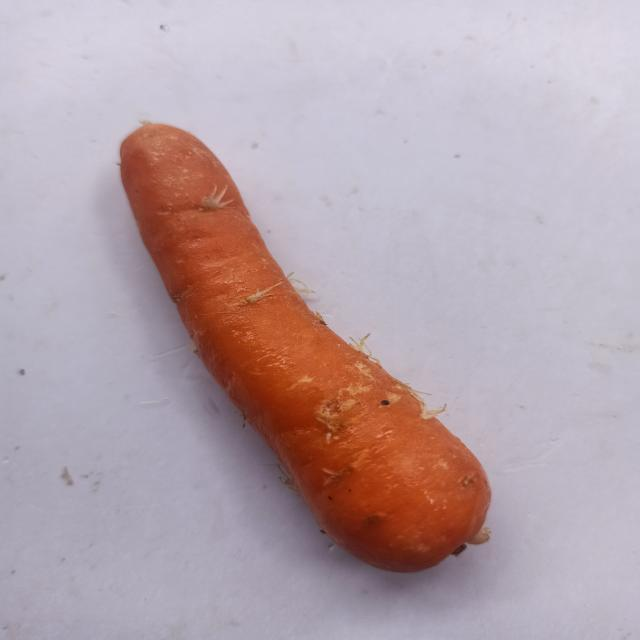Carrot: (101, 114, 525, 593)
